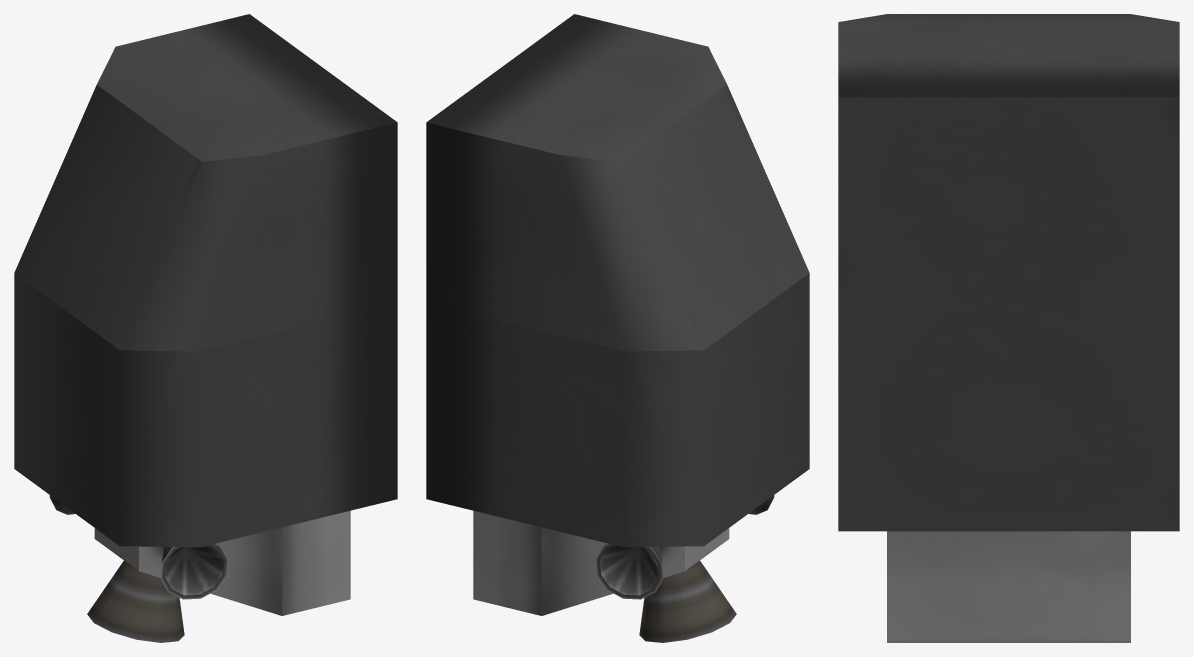
The model's file is Transtage_RCS.dae.
The picture shows the model from 3 angles, left to right: view 1: azimuth 30°, elevation 25°; view 2: azimuth 150°, elevation 25°; view 3: azimuth 270°, elevation 25°; orthographic projection. The views are drawn at different scales.
Visible parts, largest first — view 1: TranstageRCS1; view 2: TranstageRCS1; view 3: TranstageRCS1.
Part boxes in pixels (left/top/right/bottom): TranstageRCS1: left=14, top=14, right=397, bottom=642; TranstageRCS1: left=426, top=14, right=809, bottom=642; TranstageRCS1: left=838, top=14, right=1179, bottom=642.
Size of the model in its own units: 0.2145 by 0.4172 by 0.2145.
